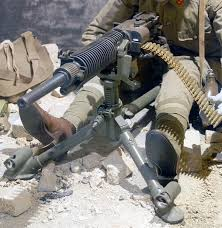gun: (0, 11, 184, 225)
